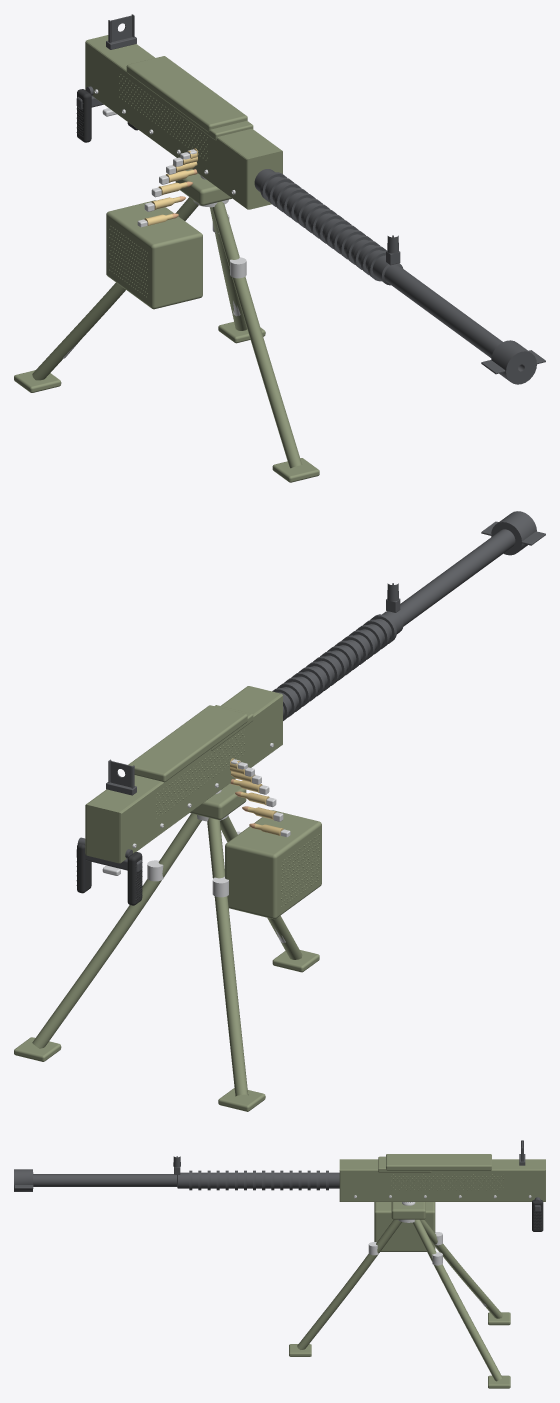
File: mega-weapon-pack-heavy-tripod-gun-866778f8__33346.glb
The picture shows the model from 3 angles, top to bottom: view 1: azimuth 30°, elevation 25°; view 2: azimuth 150°, elevation 25°; view 3: azimuth 270°, elevation 25°; orthographic projection. The views are drawn at different scales.
Parts seen in each view (by area): view 1: heavy-tripod-gun; view 2: heavy-tripod-gun; view 3: heavy-tripod-gun.
Boxes of the visible parts, x1,y1,x2,y2 form: heavy-tripod-gun: (14, 14, 545, 482); heavy-tripod-gun: (14, 511, 545, 1111); heavy-tripod-gun: (14, 1140, 545, 1388).
Bounding box in the file's own units: 0.4552 × 0.606 × 1.4.
